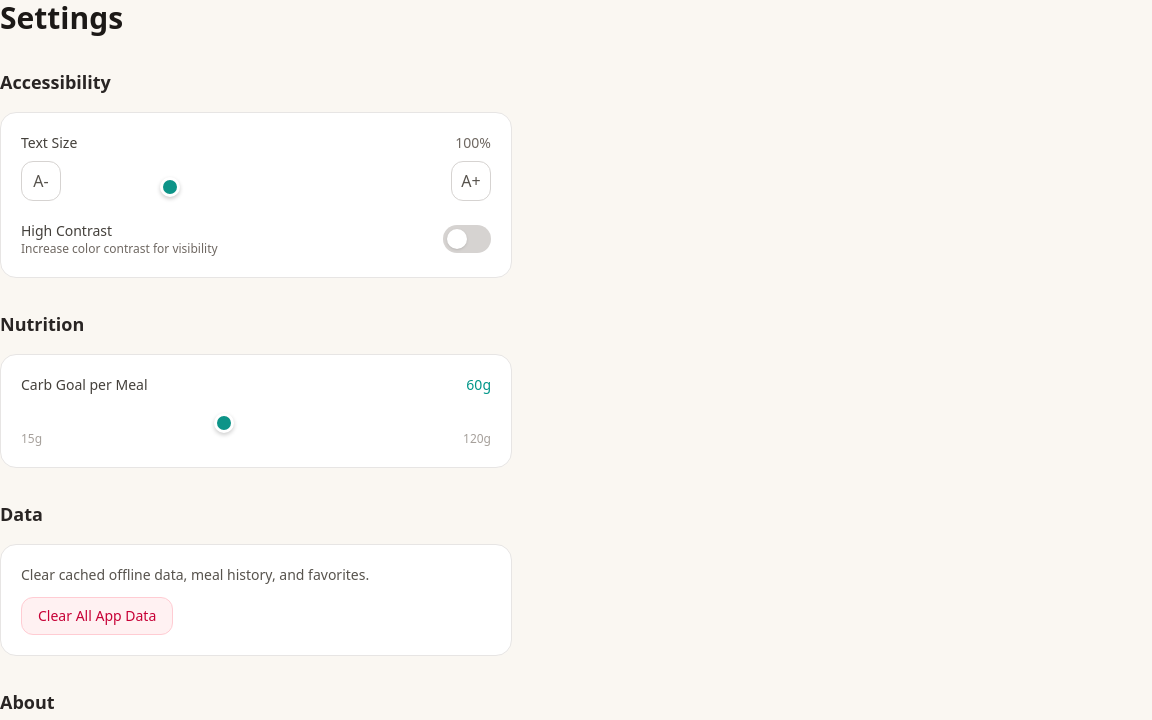
Test: Settings › asks for confirmation before clearing saved app data
Click the button "Clear All App Data" at (97, 616), box [21,597,173,635]
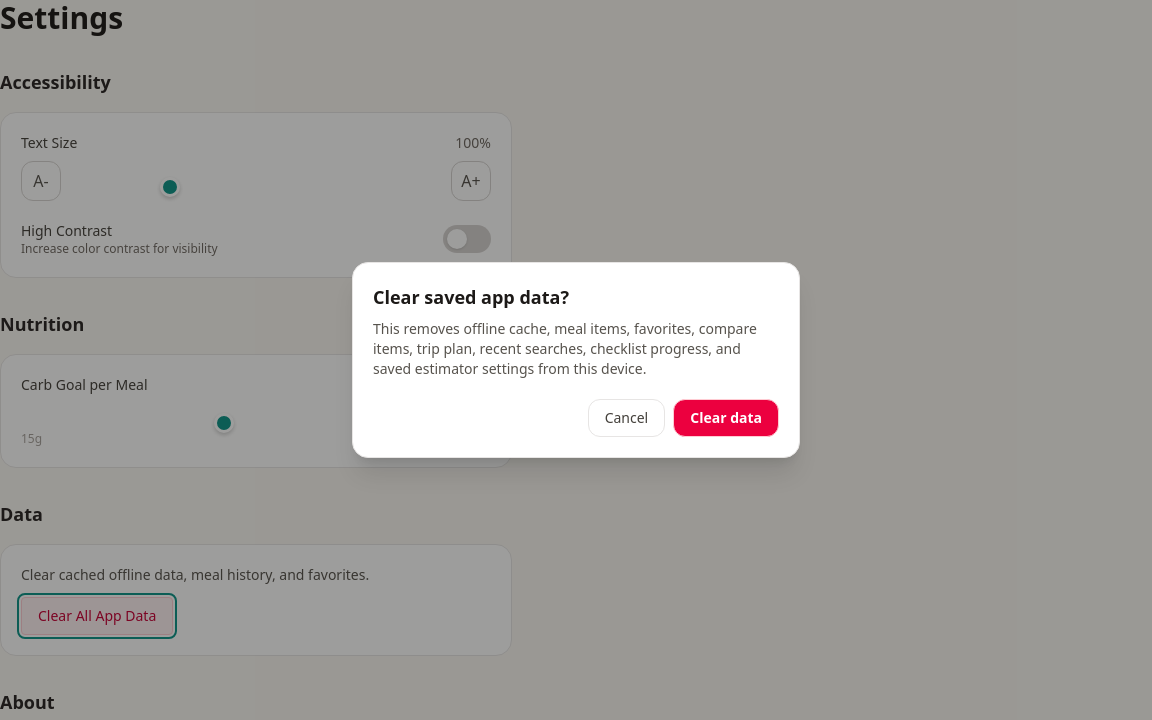
Expected: the dialog "Clear saved app data" is shown, [352,262,800,458]
